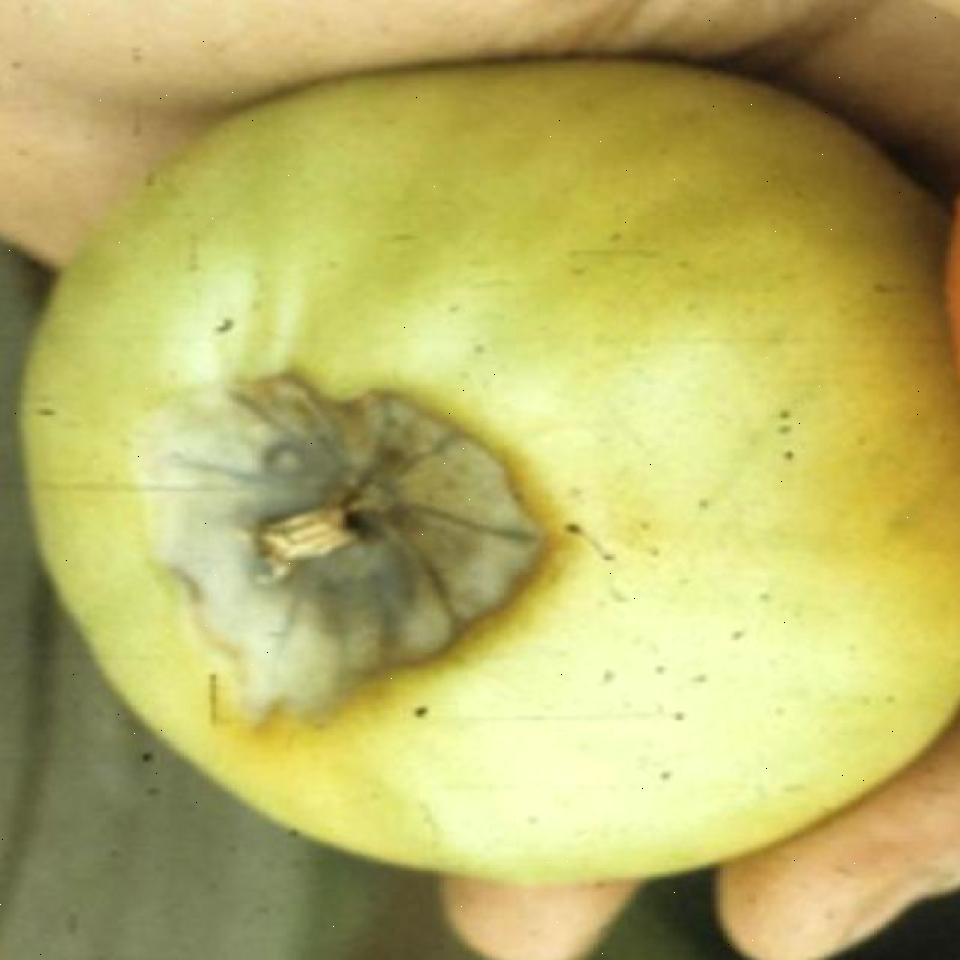Blossom_end_rot: (145, 371, 548, 717)
